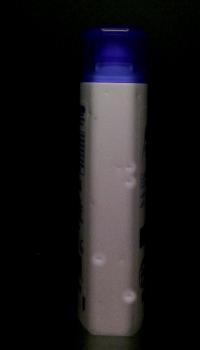dent_marginal: (117, 157, 137, 192), (121, 285, 137, 314), (88, 248, 108, 270)
